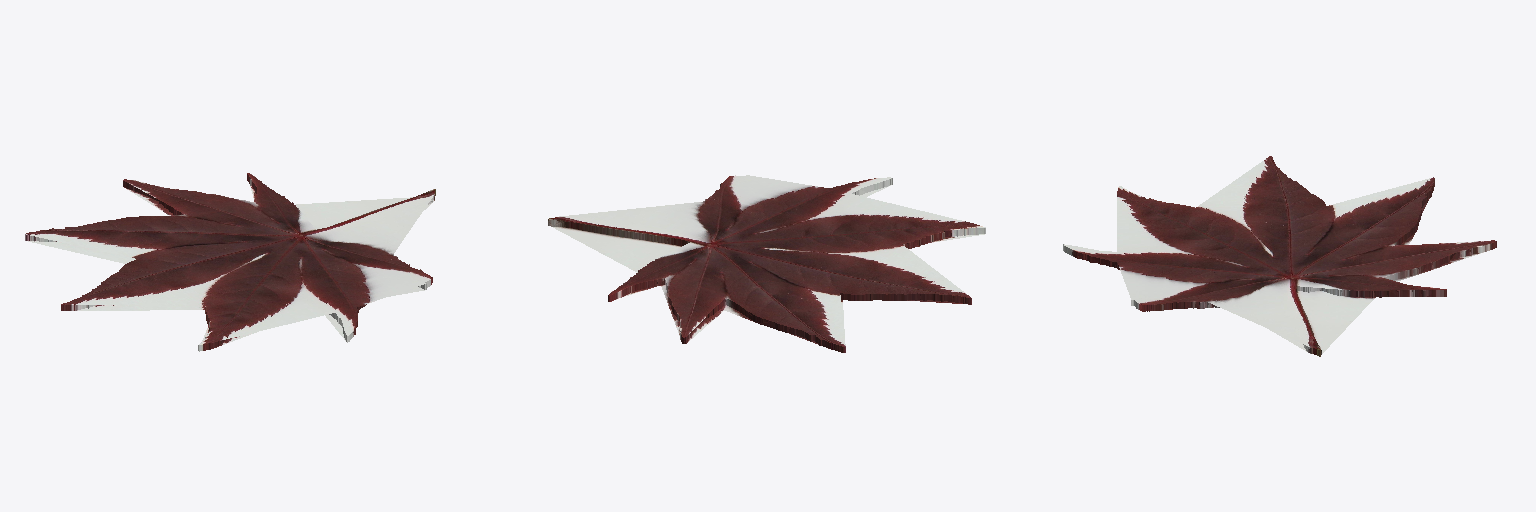
The picture shows the model from 3 angles: view 1: azimuth 30°, elevation 25°; view 2: azimuth 150°, elevation 25°; view 3: azimuth 270°, elevation 25°; orthographic projection.
Parts seen in each view (by area): view 1: Mesh; view 2: Mesh; view 3: Mesh.
Part boxes in pixels (bbox=[...]): Mesh: bbox=[25, 173, 435, 351]; Mesh: bbox=[548, 175, 985, 352]; Mesh: bbox=[1063, 156, 1496, 356].
Bounding box in the file's own units: 13.07 × 0.2026 × 12.28.
1 materials, 1 textured.